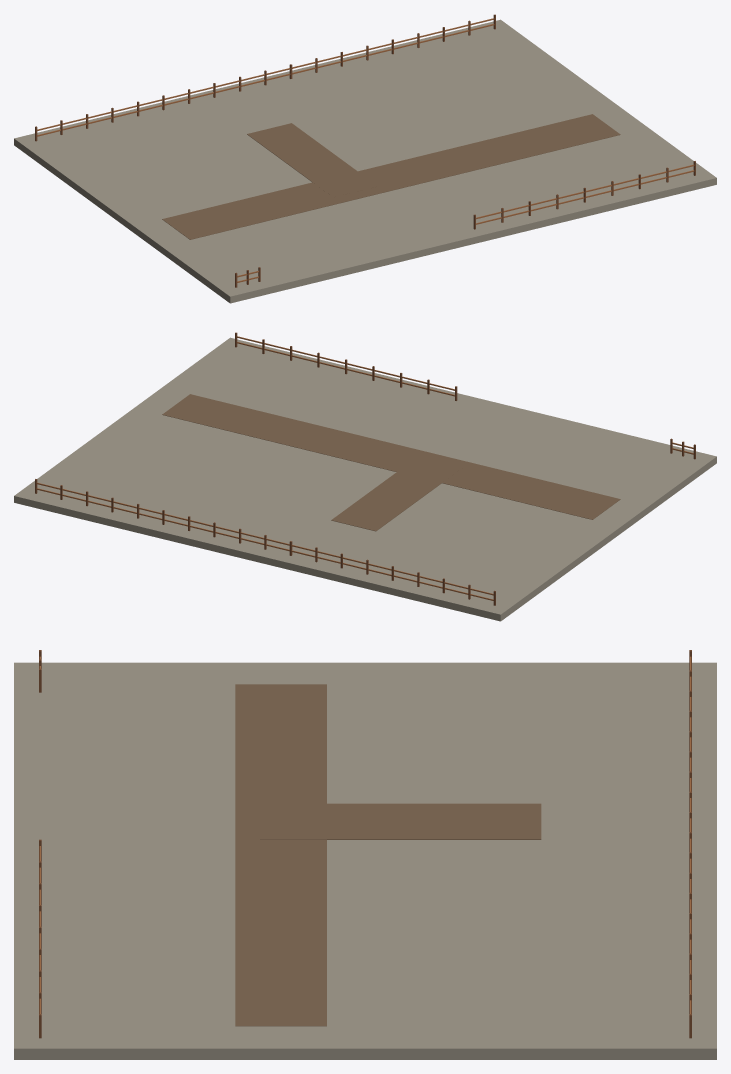
The model's file is lumber_yard_ground.glb.
3 renders of one model, top to bottom at view 1: azimuth 30°, elevation 25°; view 2: azimuth 150°, elevation 25°; view 3: azimuth 270°, elevation 25°, orthographic. The views are drawn at different scales.
Parts seen in each view (by area): view 1: lumber_yard_ground; view 2: lumber_yard_ground; view 3: lumber_yard_ground.
Part boxes in pixels (<box>): lumber_yard_ground: <box>14,14,716,303</box>; lumber_yard_ground: <box>14,332,716,621</box>; lumber_yard_ground: <box>14,650,716,1059</box>.
Bounding box in the file's own units: 52 × 2.14 × 40.
